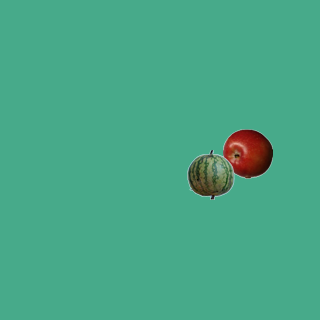Apple Braeburn: (222, 128, 272, 178)
Watermelon: (185, 149, 235, 199)
